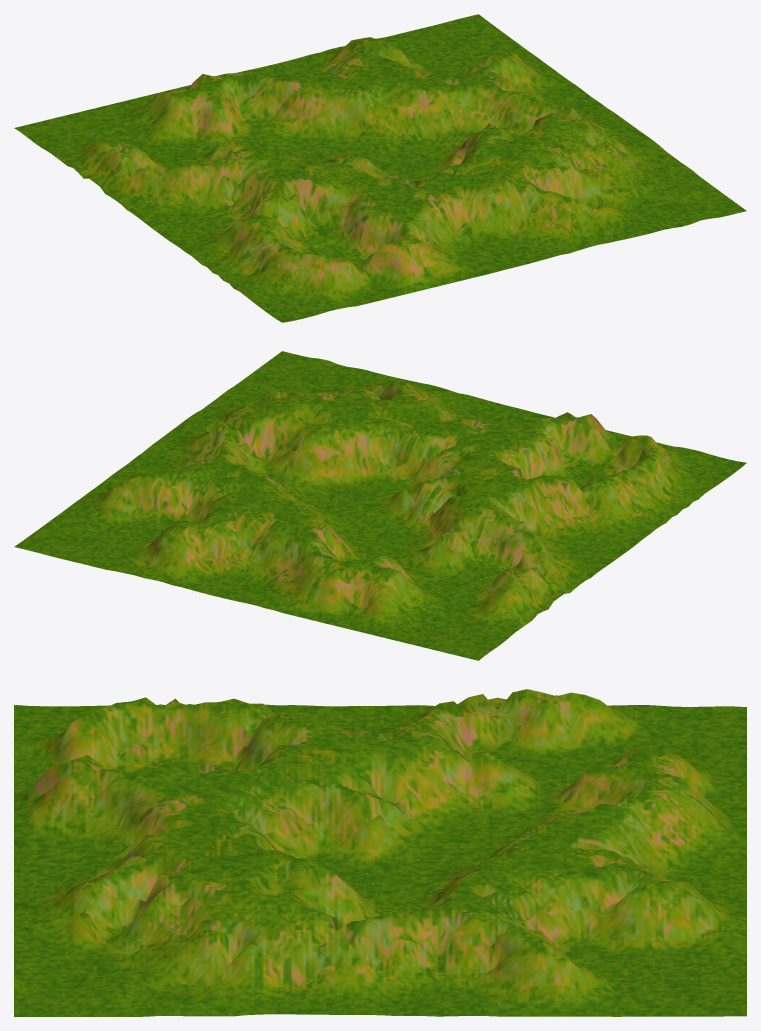
The model's file is WS free terrain 014.obj.
The picture shows the model from 3 angles, top to bottom: view 1: azimuth 30°, elevation 25°; view 2: azimuth 150°, elevation 25°; view 3: azimuth 270°, elevation 25°; orthographic projection. The views are drawn at different scales.
Parts seen in each view (by area): view 1: WS_free_terrain_001; view 2: WS_free_terrain_001; view 3: WS_free_terrain_001.
Boxes of the visible parts, bbox=[...] form: WS_free_terrain_001: bbox=[14, 14, 746, 322]; WS_free_terrain_001: bbox=[14, 351, 746, 660]; WS_free_terrain_001: bbox=[14, 689, 746, 1016].
Size of the model in its own units: 7.94 by 0.6557 by 7.94.
Materials: 1 (1 with a texture image).
